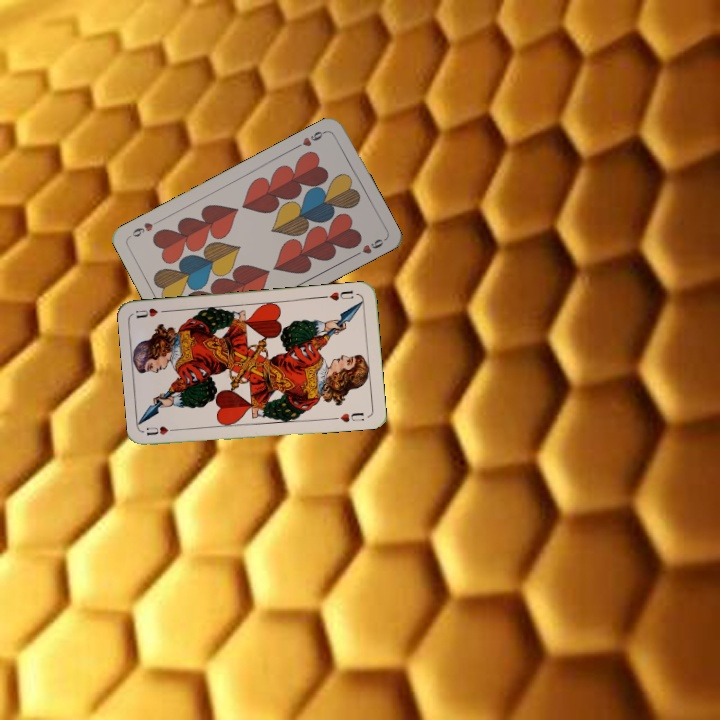H9: (292, 126, 329, 151)
HU: (142, 422, 182, 438), (320, 286, 356, 303)
